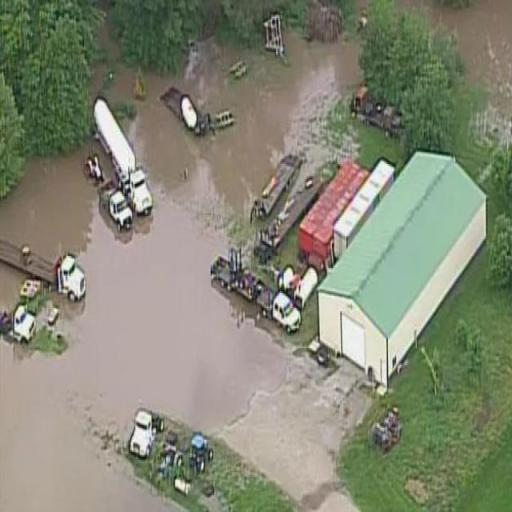flood: (0, 201, 286, 512), (137, 31, 358, 224), (401, 0, 512, 145), (0, 149, 97, 261)
house: (317, 150, 484, 394), (89, 101, 151, 226)
